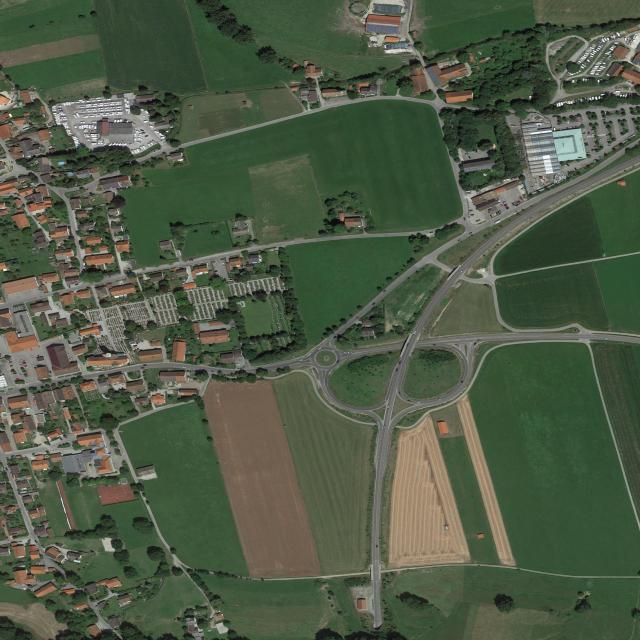large-vehicle: (187, 370, 190, 376), (187, 376, 190, 381)
ship: (605, 51, 612, 54), (613, 42, 620, 45), (613, 34, 617, 38), (613, 36, 616, 40), (610, 36, 614, 39), (615, 41, 620, 43)
small-vehicle: (567, 71, 574, 76), (76, 112, 81, 118), (73, 114, 78, 119), (616, 32, 621, 37), (601, 38, 606, 43), (138, 135, 144, 139), (137, 137, 143, 141), (149, 125, 155, 129), (76, 144, 83, 147), (598, 67, 605, 70), (108, 143, 113, 147), (114, 118, 118, 123), (154, 130, 159, 134), (159, 133, 164, 137), (151, 140, 156, 144), (147, 143, 152, 147), (582, 55, 587, 59), (586, 59, 591, 63), (71, 135, 77, 138), (73, 138, 79, 141), (76, 146, 82, 149), (52, 107, 58, 110), (143, 121, 149, 124), (453, 222, 459, 225), (580, 57, 586, 60), (592, 50, 598, 53), (581, 64, 587, 67), (90, 134, 98, 136), (119, 119, 123, 123), (131, 150, 135, 154), (116, 119, 120, 123), (136, 149, 140, 153), (140, 146, 144, 150), (63, 103, 67, 107), (65, 102, 69, 106), (142, 146, 146, 150), (145, 110, 149, 114), (570, 101, 574, 105), (497, 211, 501, 215), (139, 133, 144, 136), (140, 129, 145, 132), (123, 143, 128, 146), (131, 343, 136, 346), (86, 100, 91, 103), (92, 103, 97, 106), (63, 118, 68, 121), (52, 109, 57, 112), (67, 132, 72, 135), (124, 98, 127, 103), (161, 136, 166, 139), (149, 142, 154, 145), (105, 109, 110, 112), (552, 115, 557, 118), (331, 349, 336, 352), (601, 64, 606, 67), (609, 48, 614, 51), (610, 46, 615, 49), (602, 62, 607, 65), (604, 37, 607, 42), (598, 45, 603, 48), (590, 53, 595, 56), (589, 55, 594, 58), (580, 66, 585, 69), (91, 136, 97, 138), (112, 143, 116, 146), (115, 143, 119, 146), (118, 143, 122, 146), (121, 143, 125, 146), (134, 149, 137, 153), (153, 150, 157, 153), (80, 122, 86, 124), (126, 120, 130, 123), (83, 124, 86, 128), (91, 124, 94, 128), (69, 333, 72, 337), (19, 373, 23, 376), (72, 137, 78, 139), (75, 143, 81, 145), (35, 365, 38, 369), (68, 102, 71, 106), (96, 97, 100, 100), (86, 104, 92, 106), (104, 102, 108, 105), (54, 114, 60, 116), (54, 116, 60, 118), (61, 117, 67, 119), (62, 122, 68, 124), (63, 124, 69, 126), (110, 104, 116, 106), (109, 114, 115, 116), (116, 113, 122, 115), (127, 104, 130, 108), (98, 110, 104, 112), (92, 110, 98, 112), (83, 116, 89, 118), (598, 156, 602, 159), (596, 158, 600, 161), (601, 97, 604, 101), (598, 96, 601, 100), (595, 97, 598, 101), (592, 97, 595, 101), (589, 97, 592, 101), (582, 99, 585, 103), (575, 99, 578, 103), (557, 123, 561, 126), (568, 101, 571, 105), (561, 102, 564, 106), (593, 160, 597, 163), (615, 91, 621, 93), (459, 270, 463, 273), (495, 212, 499, 215), (491, 214, 495, 217), (499, 210, 503, 213), (437, 398, 441, 401), (622, 94, 625, 98), (567, 171, 571, 174), (564, 165, 568, 168), (513, 202, 517, 205), (506, 207, 510, 210), (515, 204, 519, 207), (556, 103, 559, 107), (299, 359, 303, 362), (34, 540, 38, 543), (318, 347, 322, 350), (413, 331, 416, 335), (356, 316, 360, 319), (383, 290, 387, 293), (26, 407, 32, 409), (8, 466, 11, 470), (372, 302, 376, 305), (585, 52, 589, 55), (584, 54, 588, 57), (578, 60, 582, 63), (605, 52, 609, 55), (612, 45, 616, 48), (600, 66, 606, 68), (529, 95, 532, 99), (596, 49, 600, 52), (607, 37, 610, 41), (597, 47, 601, 50), (92, 139, 97, 141), (137, 141, 142, 143), (83, 130, 88, 132), (85, 136, 90, 138), (98, 139, 103, 141), (98, 141, 103, 143), (92, 143, 97, 145), (68, 358, 73, 360), (74, 140, 79, 142), (74, 142, 79, 144), (61, 113, 66, 115), (71, 102, 76, 104), (81, 101, 86, 103), (59, 111, 64, 113), (97, 100, 102, 102), (80, 106, 85, 108), (85, 106, 90, 108), (98, 103, 103, 105), (110, 102, 115, 104), (59, 112, 64, 114), (57, 109, 62, 111), (116, 103, 121, 105), (52, 106, 57, 108), (53, 113, 58, 115), (56, 121, 61, 123), (57, 123, 62, 125), (64, 125, 69, 127), (65, 127, 70, 129), (66, 130, 71, 132), (116, 101, 121, 103), (103, 115, 108, 117), (96, 115, 101, 117), (112, 109, 117, 111), (98, 105, 103, 107), (98, 108, 103, 110), (116, 106, 121, 108), (117, 109, 122, 111), (99, 113, 104, 115), (87, 111, 92, 113), (82, 111, 87, 113), (90, 116, 95, 118), (601, 94, 606, 96), (559, 102, 561, 107), (597, 62, 602, 64), (593, 67, 598, 69), (589, 47, 594, 49), (590, 73, 595, 75), (597, 70, 602, 72), (635, 36, 638, 39), (134, 134, 137, 137), (158, 147, 161, 150), (124, 119, 127, 122), (94, 126, 97, 129), (134, 138, 137, 141), (219, 275, 222, 278), (77, 338, 80, 341), (136, 341, 139, 344), (31, 356, 34, 359), (86, 188, 89, 191), (83, 263, 86, 266), (109, 275, 112, 278), (114, 274, 117, 277), (186, 259, 189, 262), (11, 100, 14, 103), (125, 109, 128, 112), (163, 141, 166, 144), (49, 371, 52, 374), (572, 109, 575, 112), (575, 168, 578, 171), (490, 215, 493, 218), (458, 239, 461, 242), (474, 342, 477, 345), (461, 380, 464, 383), (566, 164, 569, 167), (475, 150, 478, 153), (468, 156, 471, 159), (521, 187, 524, 190), (517, 201, 520, 204), (500, 204, 503, 207), (512, 203, 515, 206), (503, 201, 506, 204), (383, 425, 386, 428), (384, 399, 387, 402), (398, 392, 401, 395), (336, 360, 339, 363), (334, 335, 337, 338), (407, 344, 410, 347), (19, 508, 22, 511), (239, 360, 242, 363), (33, 395, 36, 398), (48, 442, 51, 445), (60, 438, 63, 441), (5, 468, 8, 471), (6, 463, 9, 466), (10, 471, 13, 474), (17, 489, 20, 492), (609, 37, 612, 40), (600, 40, 603, 43), (86, 139, 90, 141), (145, 135, 149, 137), (136, 131, 140, 133), (79, 125, 81, 129), (81, 125, 83, 129), (89, 125, 91, 129), (75, 284, 79, 286), (8, 360, 12, 362), (22, 370, 26, 372), (13, 373, 17, 375), (214, 270, 218, 272), (77, 227, 81, 229), (119, 238, 123, 240), (83, 259, 85, 263), (92, 100, 96, 102), (103, 99, 107, 101), (67, 131, 71, 133), (112, 112, 116, 114), (127, 100, 129, 104), (125, 103, 127, 107), (86, 109, 90, 111), (105, 107, 109, 109), (94, 113, 98, 115), (629, 94, 631, 98), (599, 145, 603, 147), (602, 119, 606, 121), (585, 144, 589, 146), (583, 139, 587, 141), (586, 152, 590, 154), (584, 164, 588, 166), (578, 99, 580, 103), (587, 98, 589, 102), (580, 99, 582, 103), (469, 210, 473, 212), (622, 102, 624, 106), (625, 94, 627, 98), (488, 211, 492, 213), (466, 191, 470, 193), (522, 194, 526, 196), (620, 94, 622, 98), (399, 361, 401, 365), (143, 364, 147, 366), (141, 367, 145, 369), (591, 71, 595, 73), (593, 52, 597, 54), (595, 73, 599, 75), (92, 138, 98, 139), (142, 132, 145, 134), (91, 122, 97, 123), (86, 125, 88, 128), (83, 363, 85, 366), (69, 285, 71, 288), (134, 345, 137, 347), (9, 361, 12, 363), (20, 364, 23, 366), (24, 365, 27, 367), (23, 362, 26, 364), (10, 365, 13, 367), (193, 257, 195, 260), (128, 267, 131, 269), (188, 259, 191, 261), (191, 258, 193, 261), (139, 148, 141, 151), (56, 120, 62, 121), (128, 109, 130, 112), (111, 107, 114, 109), (570, 127, 572, 130), (567, 127, 569, 130), (560, 128, 562, 131), (577, 126, 579, 129), (593, 139, 596, 141), (591, 149, 594, 151), (575, 126, 577, 129), (566, 121, 568, 124), (605, 112, 607, 115), (471, 214, 474, 216), (464, 218, 466, 221), (469, 232, 472, 234), (627, 102, 629, 105), (518, 201, 521, 203), (515, 202, 518, 204), (504, 204, 507, 206), (503, 203, 506, 205), (3, 392, 6, 394), (376, 545, 378, 548), (387, 406, 389, 409), (408, 400, 411, 402), (396, 369, 398, 372), (29, 590, 35, 591), (33, 400, 35, 403), (18, 492, 20, 495), (83, 429, 85, 432), (12, 475, 14, 478), (590, 70, 596, 71), (84, 135, 89, 136), (98, 143, 103, 144), (55, 118, 60, 119), (117, 112, 122, 113), (92, 106, 97, 107), (591, 134, 596, 135), (584, 143, 589, 144), (604, 338, 609, 339), (75, 126, 77, 128), (222, 266, 226, 267), (222, 263, 226, 264), (76, 102, 80, 103), (79, 100, 83, 101), (34, 142, 38, 143), (105, 105, 109, 106), (92, 109, 96, 110), (572, 127, 574, 129), (588, 132, 590, 134), (607, 140, 611, 141), (608, 145, 612, 146), (594, 146, 598, 147), (598, 139, 602, 140), (568, 120, 569, 124), (477, 340, 481, 341), (523, 197, 527, 198), (506, 206, 508, 208), (416, 402, 420, 403), (348, 352, 352, 353), (183, 367, 187, 368), (236, 364, 240, 365), (595, 66, 599, 67), (106, 113, 109, 114), (24, 367, 27, 368), (615, 110, 616, 113), (433, 344, 436, 345), (523, 196, 526, 197), (343, 352, 346, 353), (212, 371, 215, 372)
storage-tank: (351, 2, 366, 14)
